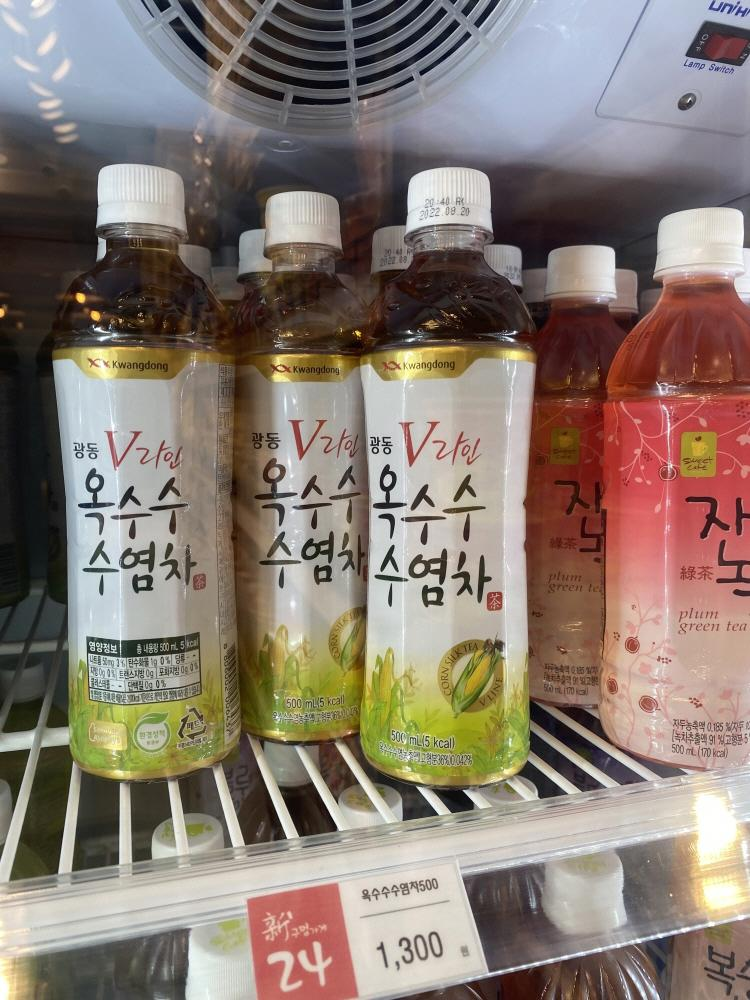oksususuyeomcha: (338, 155, 547, 817), (48, 153, 244, 797)
